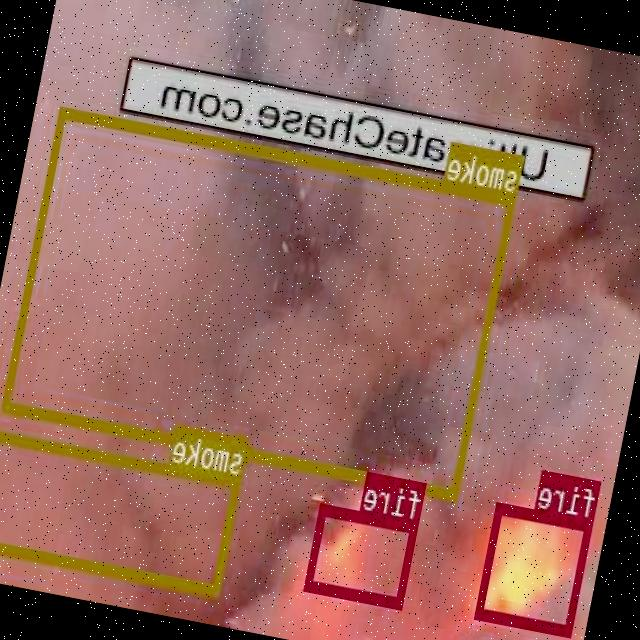fire: (476, 500, 596, 636), (306, 502, 421, 606)
smoke: (3, 106, 519, 498), (0, 426, 243, 595)
